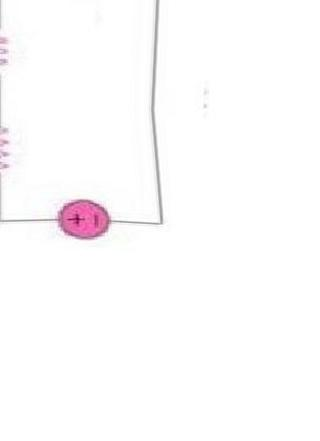Battery: (48, 184, 117, 262)
